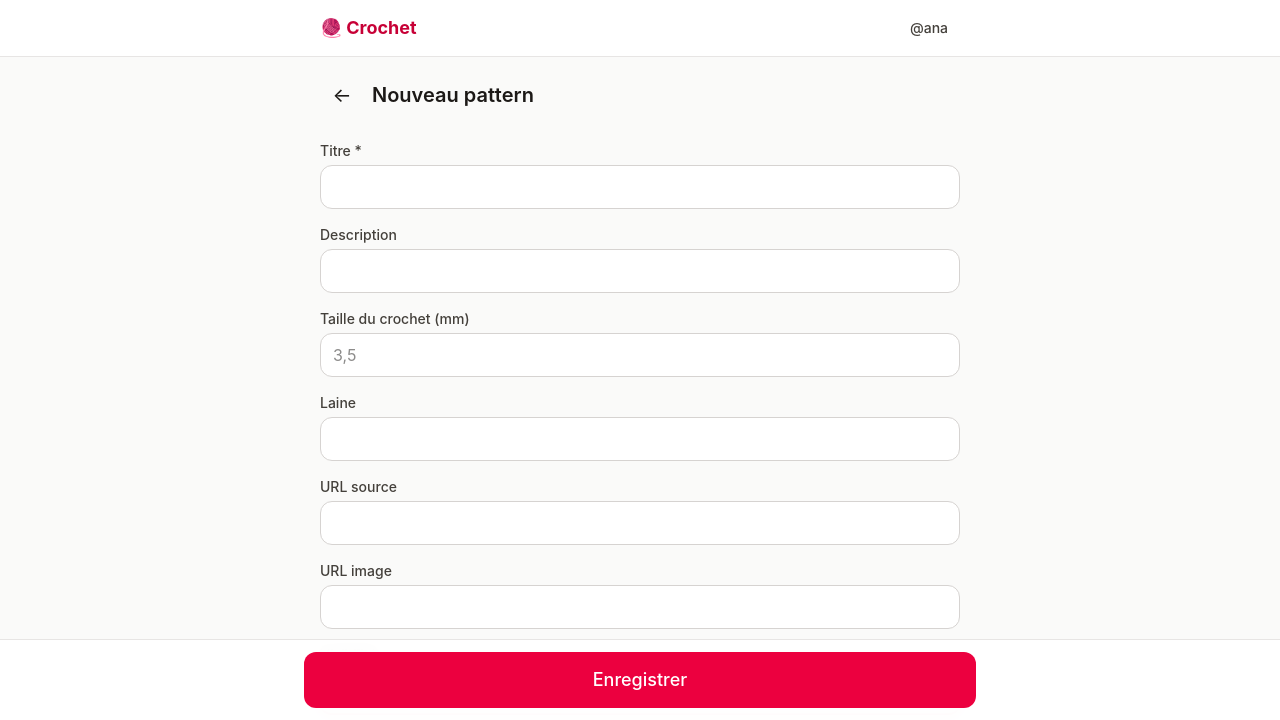
Test: visibilité › crée en public si on le choisit
Type "Lapin" into the field labelled "Titre *" at {"x": 640, "y": 187}, box [320,165,960,209]
(page scrolled)
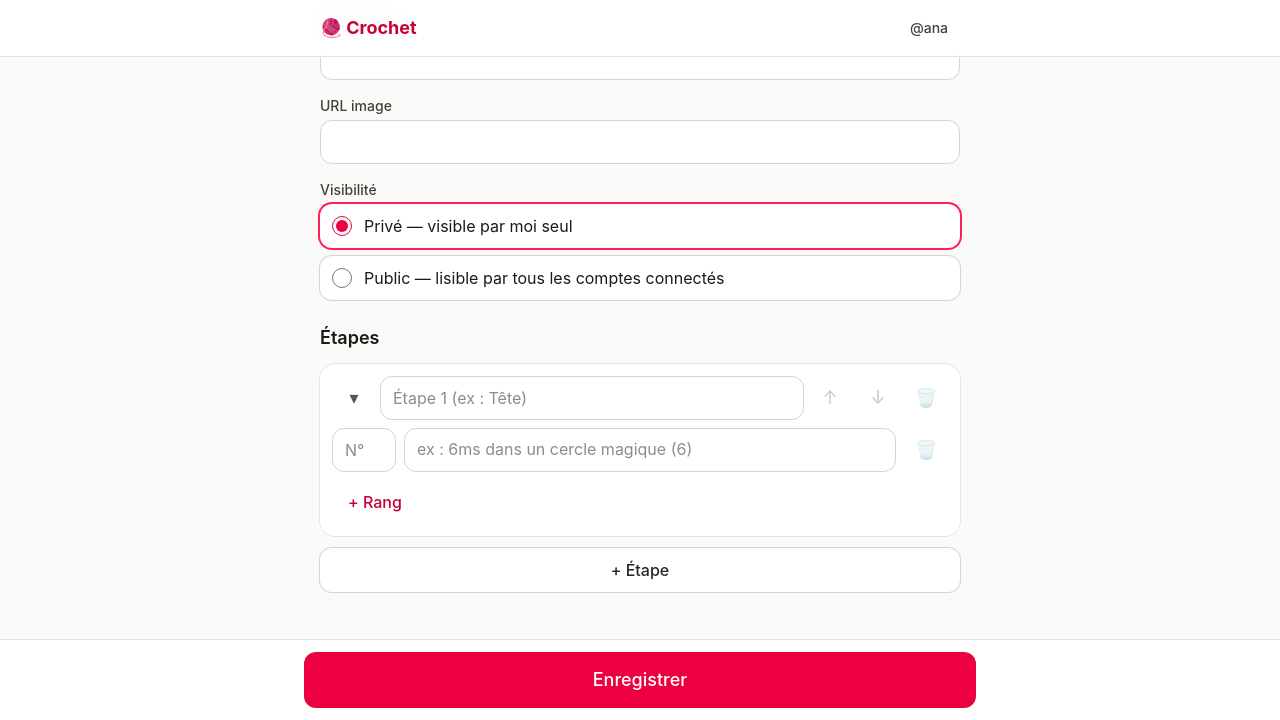
Type "Tête" into the field named "Titre de l’étape 1" at {"x": 592, "y": 398}, box [380,376,804,420]
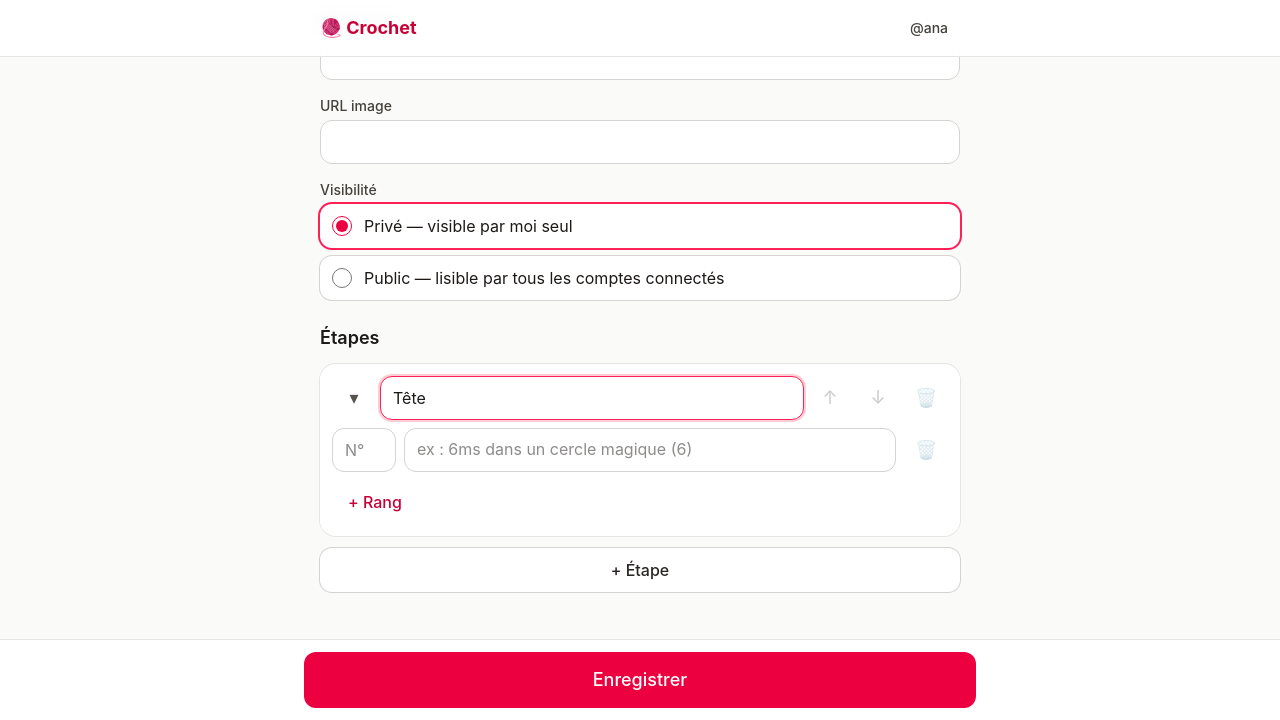
Type "1" into the field named "Numéro du rang 1 de l’étape 1" at {"x": 364, "y": 450}, box [332,428,396,472]
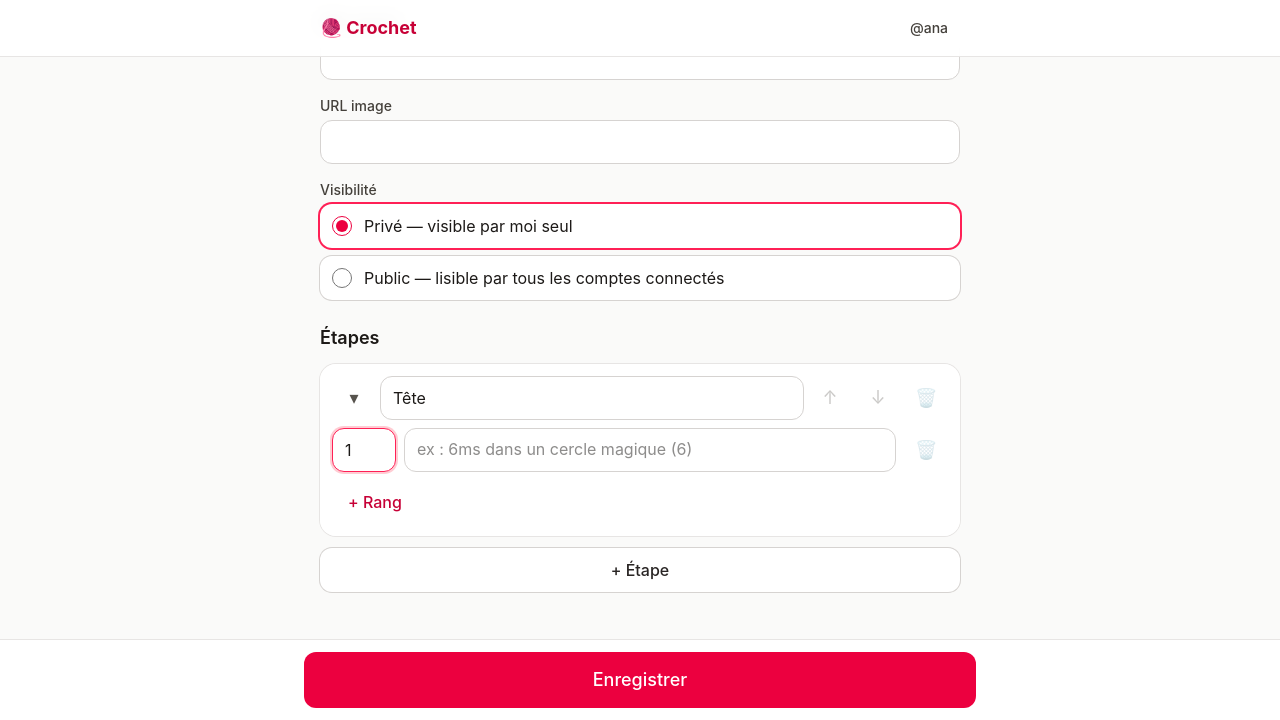
Type "6ms (6)" into the text box named "Instructions du rang 1 de l’étape 1" at {"x": 650, "y": 450}, box [404,428,896,472]
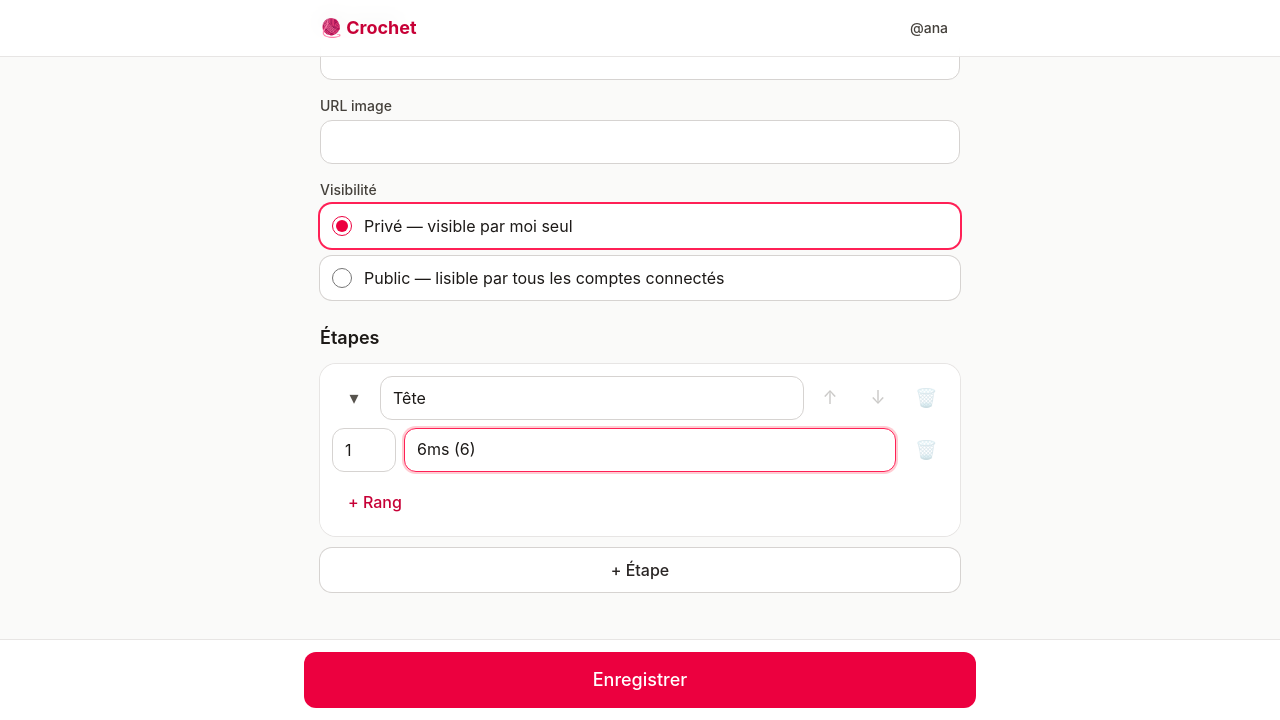
Click the radio button labelled "Public — lisible par tous les comptes connectés" at {"x": 342, "y": 278}, box [332,268,352,288]
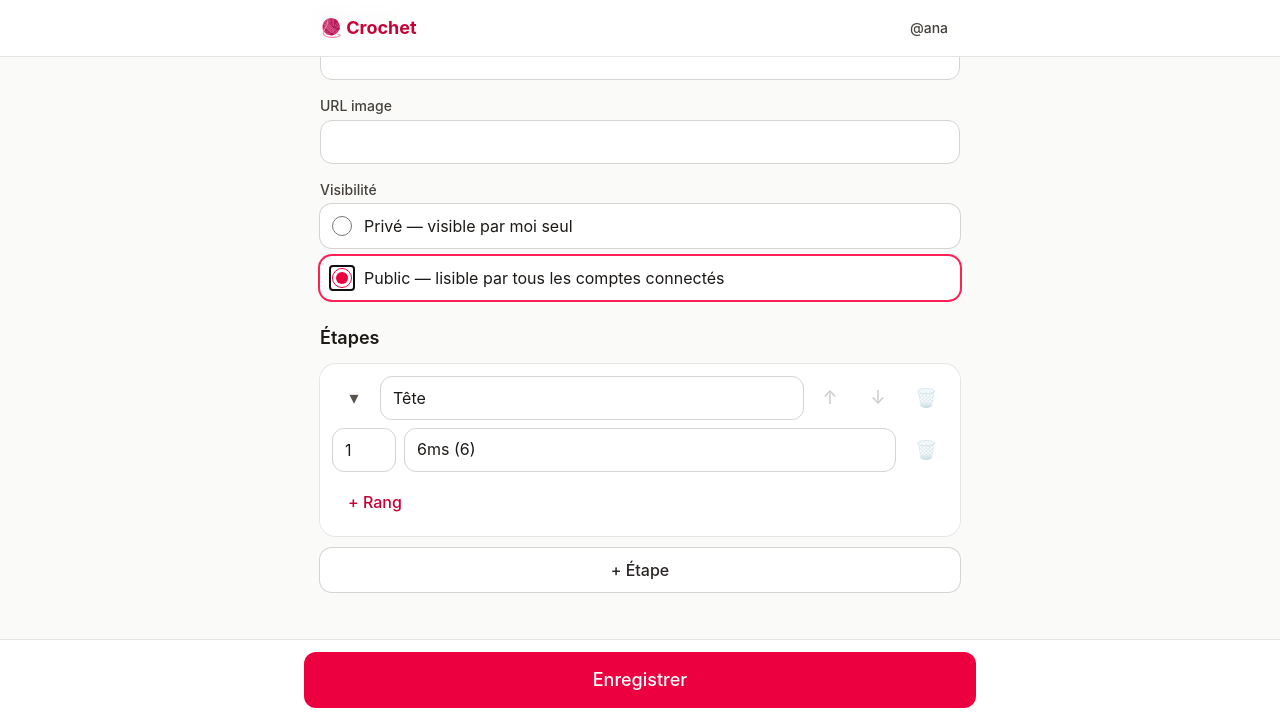
Click the button "Enregistrer" at {"x": 640, "y": 680}, box [304,652,976,708]
(page scrolled)
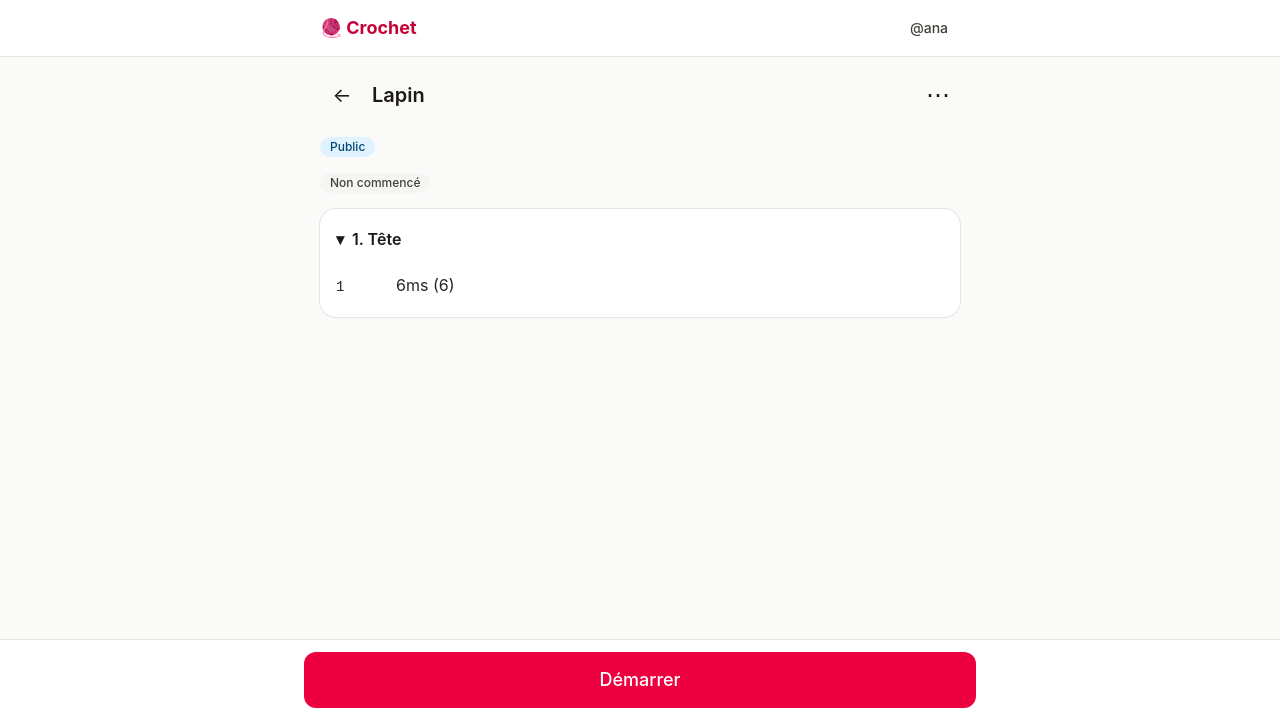
Now the heading "Lapin" is shown, box [372,83,425,107]
